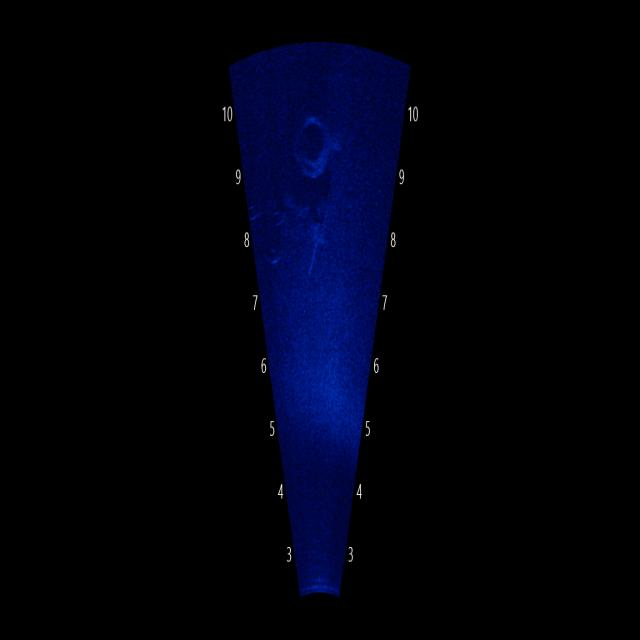circle: (289, 88, 336, 184)
